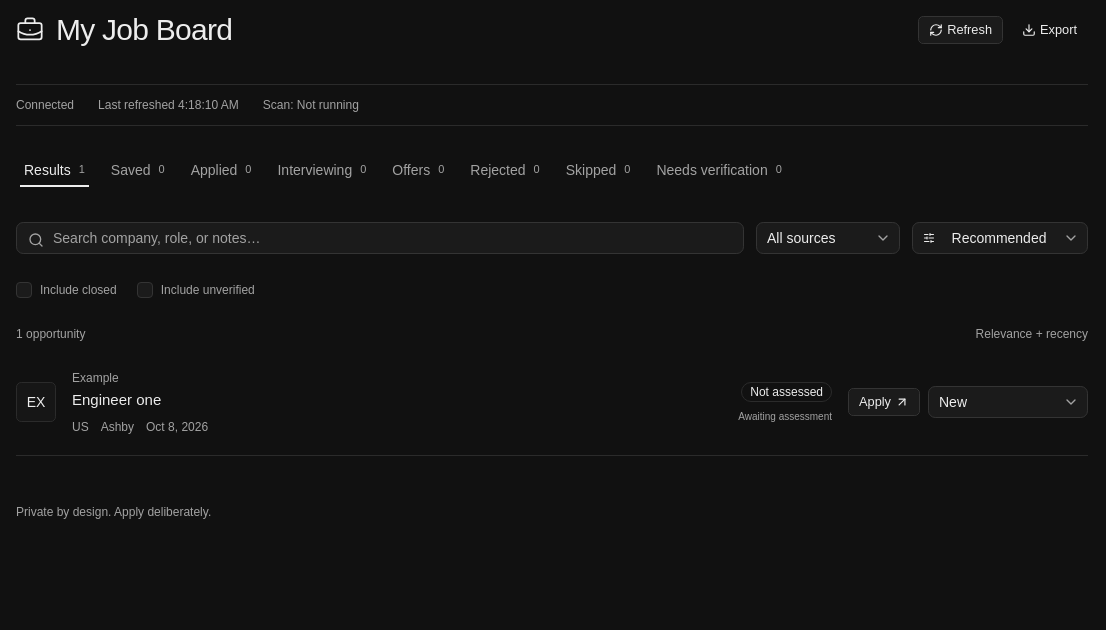
Test: failed card status saves leave the job in Results
What coordinates should you click on to do the following:
click the dropdown named "Status for Engineer one at Example"
I would click on:
 (1008, 402)
Its box is [928,386,1088,418].
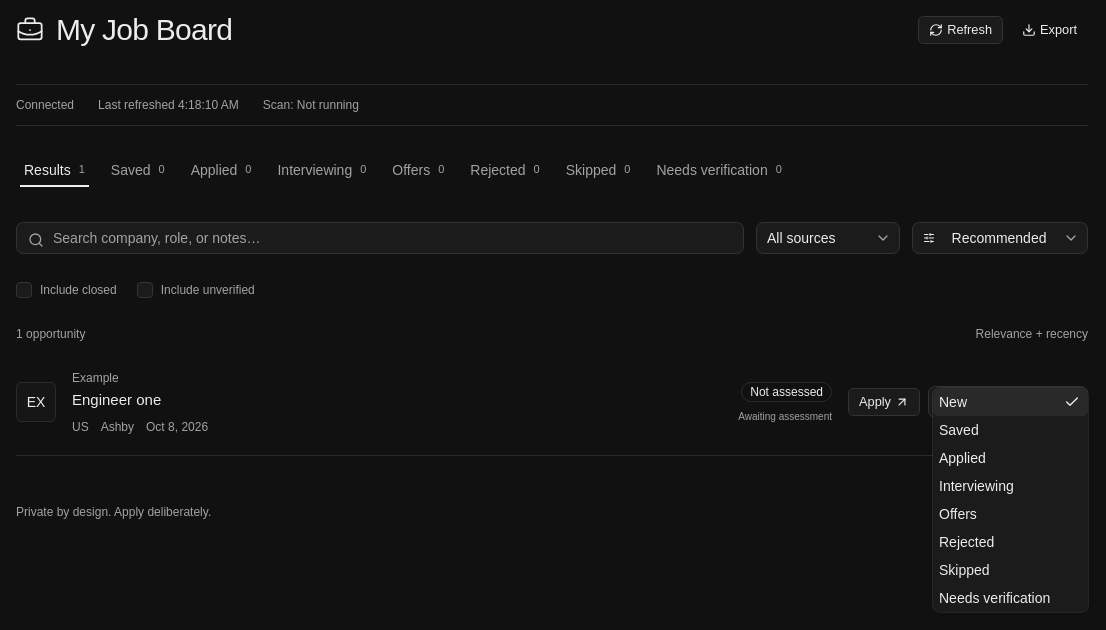
What coordinates should you click on to do the following:
click the option "Applied"
I would click on:
 (962, 458)
Its box is [939,450,986,466].
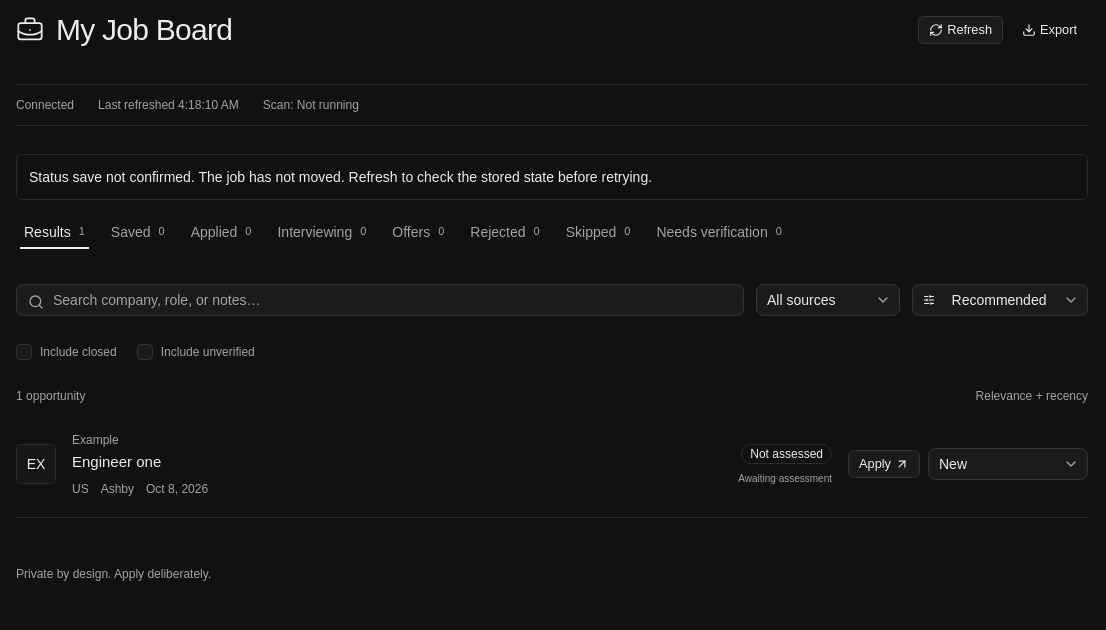
Expected: the button "Engineer one" is shown, [72,452,161,473]
Expected: the message is shown, [16,154,1088,200]
